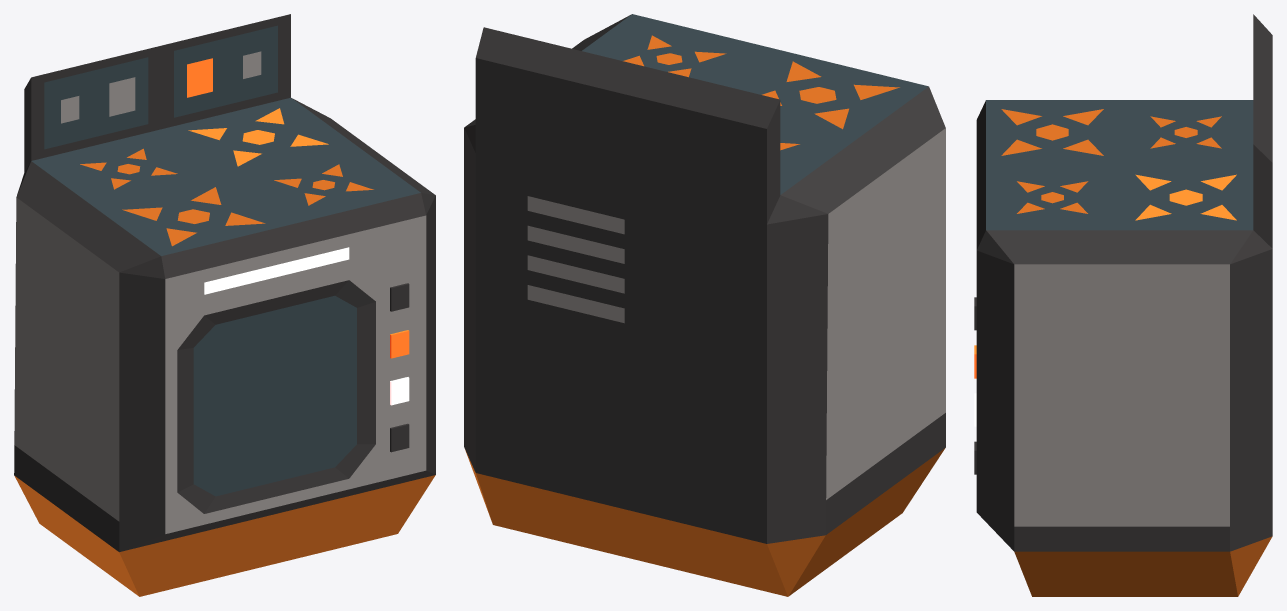
File: scifi_scifi-oven-on.fbx
3 renders of one model, left to right at view 1: azimuth 30°, elevation 25°; view 2: azimuth 150°, elevation 25°; view 3: azimuth 270°, elevation 25°, orthographic. The views are drawn at different scales.
Parts seen in each view (by area): view 1: scifi_scifi_oven_on; view 2: scifi_scifi_oven_on; view 3: scifi_scifi_oven_on.
Boxes of the visible parts, box(x1,y1,x2,y2) form: scifi_scifi_oven_on: box(14, 14, 435, 596); scifi_scifi_oven_on: box(464, 14, 945, 596); scifi_scifi_oven_on: box(974, 14, 1272, 596).
Bounding box in the file's own units: 150 × 200 × 119.
